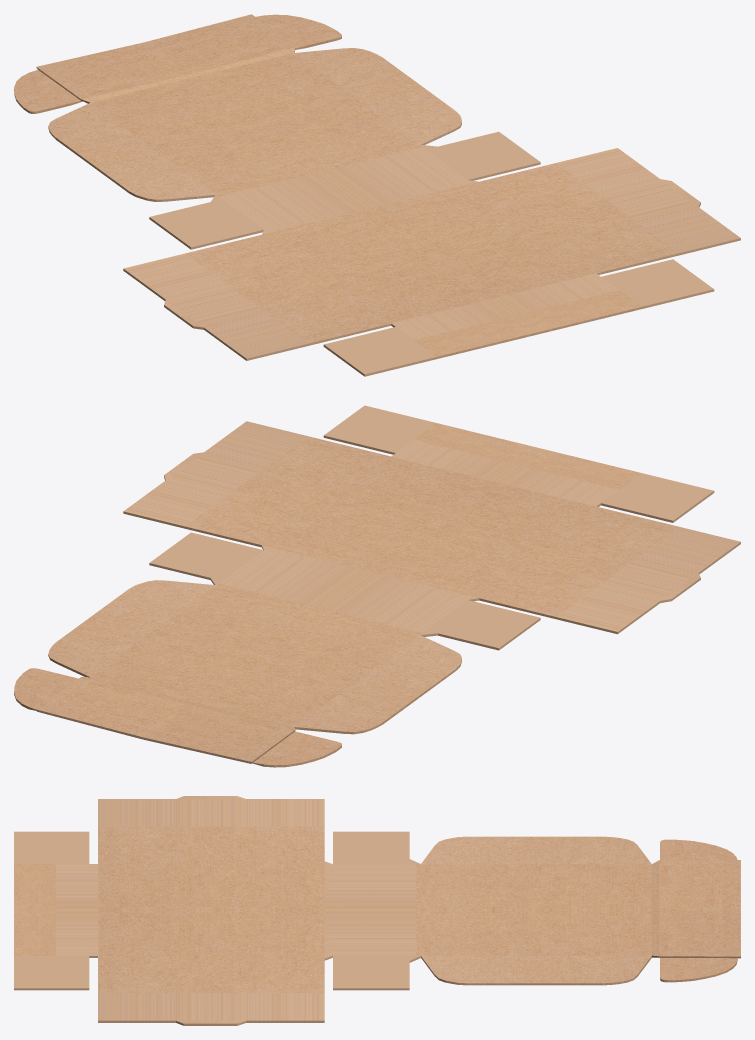
File: caja1.gltf
The picture shows the model from 3 angles, top to bottom: view 1: azimuth 30°, elevation 25°; view 2: azimuth 150°, elevation 25°; view 3: azimuth 270°, elevation 25°; orthographic projection. The views are drawn at different scales.
Parts seen in each view (by area): view 1: Plane; view 2: Plane; view 3: Plane.
Part boxes in pixels (bbox=[...]): Plane: bbox=[14, 14, 740, 376]; Plane: bbox=[14, 405, 740, 767]; Plane: bbox=[14, 796, 740, 1025].
Bounding box in the file's own units: 2.84 × 0.0222 × 3.84.
3 materials, 2 textured.
